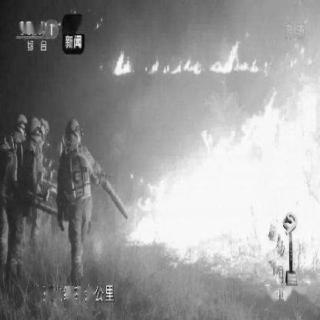Fire: (108, 41, 308, 75)
